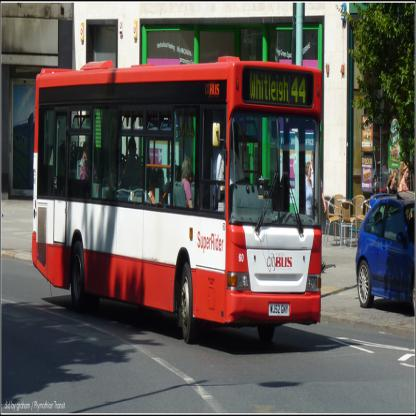Car: (353, 183, 413, 304)
